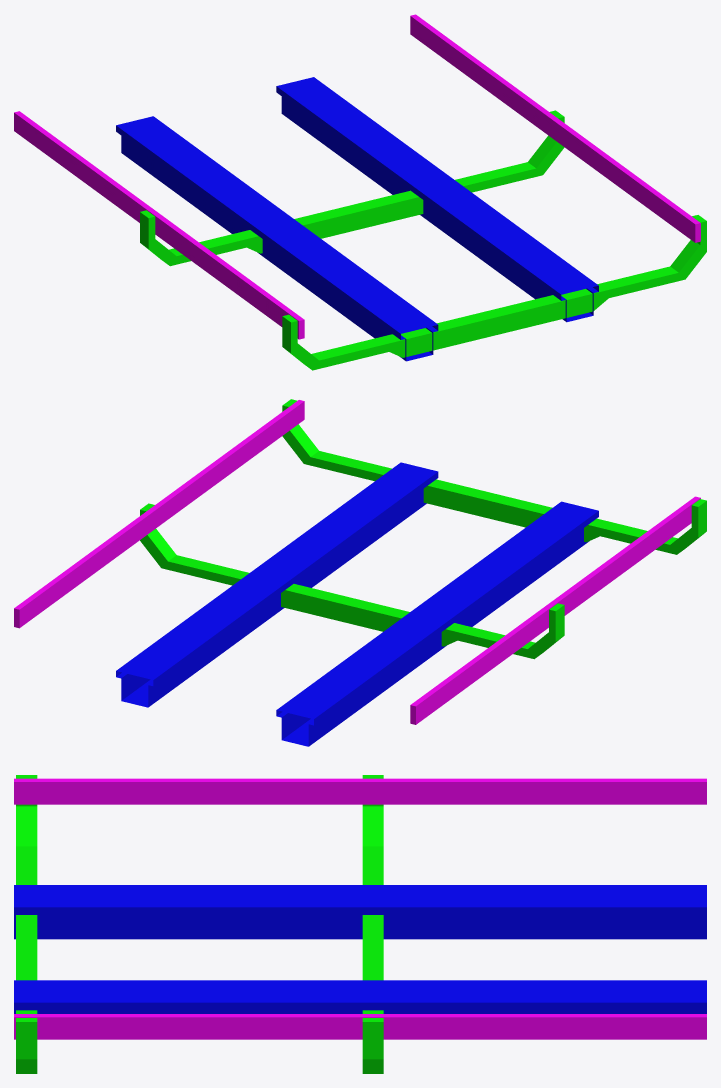
The model's file is track_MOCKUP_01.fbx.
The picture shows the model from 3 angles, top to bottom: view 1: azimuth 30°, elevation 25°; view 2: azimuth 150°, elevation 25°; view 3: azimuth 270°, elevation 25°; orthographic projection. The views are drawn at different scales.
Parts seen in each view (by area): view 1: track_MOCKUP_01; view 2: track_MOCKUP_01; view 3: track_MOCKUP_01.
Boxes of the visible parts, left/top/right/bottom form: track_MOCKUP_01: left=14, top=14, right=706, bottom=370; track_MOCKUP_01: left=14, top=399, right=706, bottom=746; track_MOCKUP_01: left=14, top=775, right=706, bottom=1073.
Bounding box in the file's own units: 0.8425 × 0.1289 × 1.
